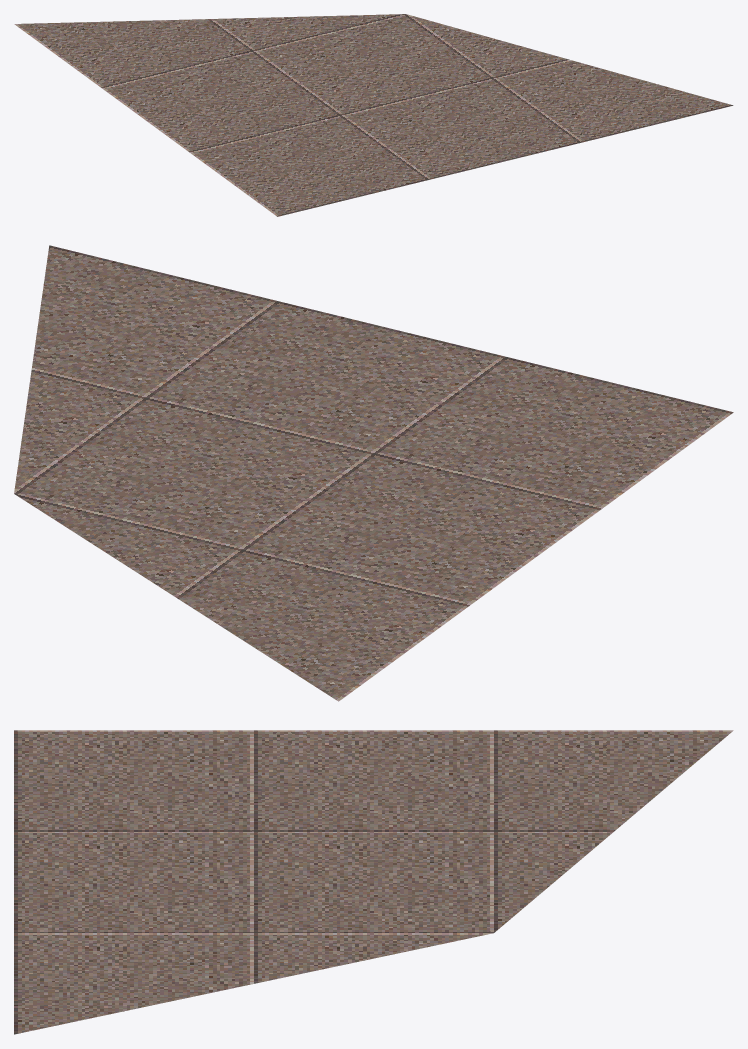
Rendered from floor_corner_round.fbx.
The picture shows the model from 3 angles, top to bottom: view 1: azimuth 30°, elevation 25°; view 2: azimuth 150°, elevation 25°; view 3: azimuth 270°, elevation 25°; orthographic projection. The views are drawn at different scales.
Visible parts, largest first — view 1: floor_corner_round; view 2: floor_corner_round; view 3: floor_corner_round.
Part boxes in pixels (x1,y1,x2,y2): floor_corner_round: (14,14,733,216); floor_corner_round: (14,245,733,701); floor_corner_round: (14,730,733,1034).
Size of the model in its own units: 300 by 4.89e-05 by 300.
1 material, 1 textured.
